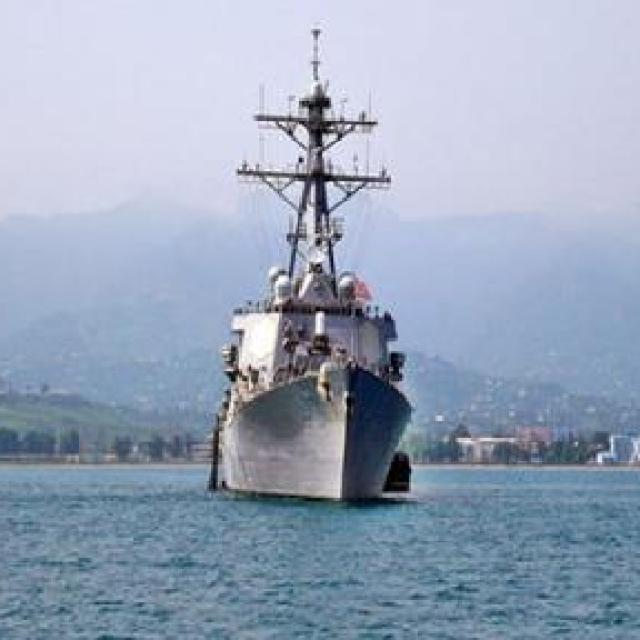navalvessels: (205, 18, 432, 503)
